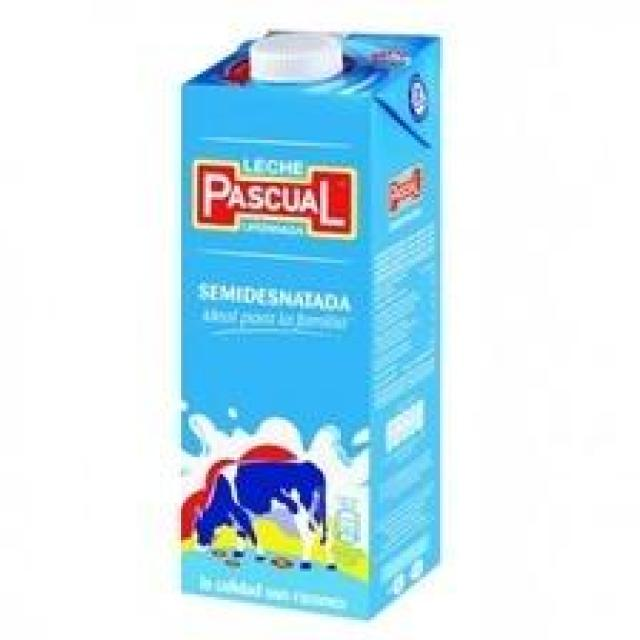PaperCardboard: (175, 29, 449, 620)
